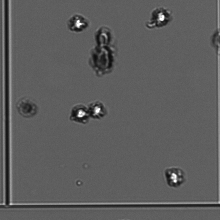Dead Cell: (87, 46, 118, 73), (16, 98, 39, 119), (93, 26, 114, 46)
Living Cell: (67, 14, 89, 34), (149, 7, 171, 27), (165, 166, 185, 188), (88, 98, 107, 120), (69, 104, 89, 124)
